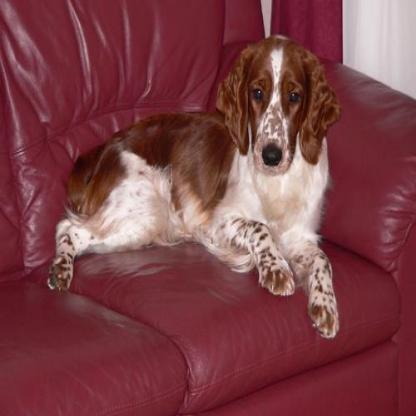Welsh_springer_spaniel: (46, 32, 336, 342)
